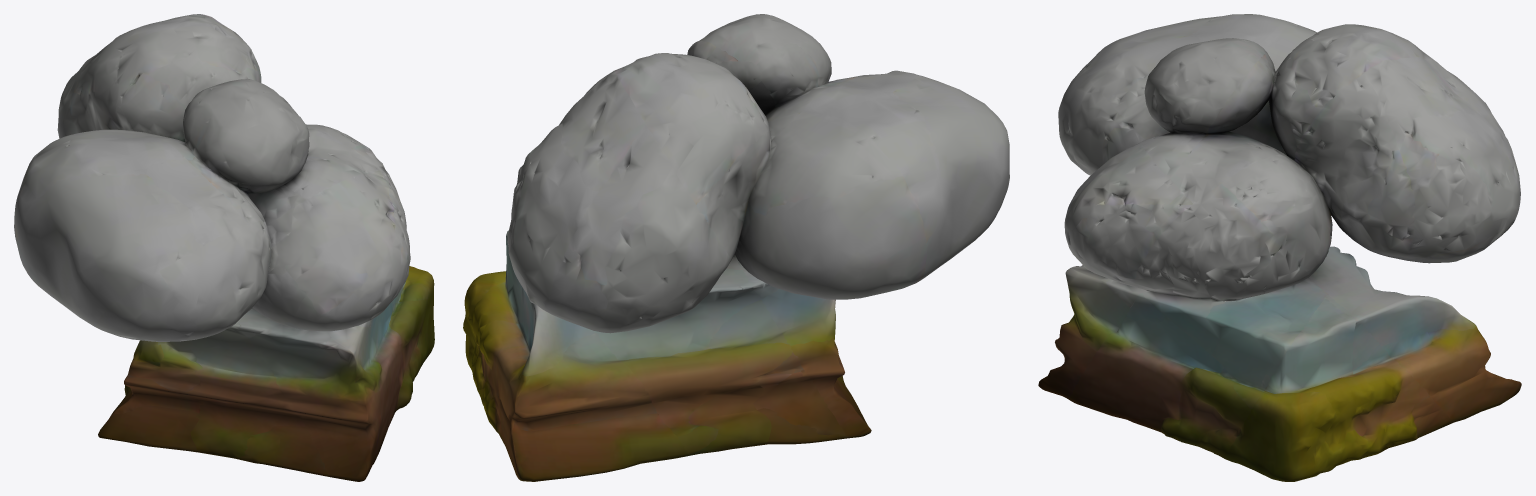
File: rocks.glb
3 views of the same model, side by side, from view 1: azimuth 30°, elevation 25°; view 2: azimuth 150°, elevation 25°; view 3: azimuth 270°, elevation 25° (orthographic). The views are drawn at different scales.
Parts seen in each view (by area): view 1: tripo_node_609f3e08-69d3-40a1-8f00-894d418d2ce7; view 2: tripo_node_609f3e08-69d3-40a1-8f00-894d418d2ce7; view 3: tripo_node_609f3e08-69d3-40a1-8f00-894d418d2ce7.
Part boxes in pixels (bbox=[...]): tripo_node_609f3e08-69d3-40a1-8f00-894d418d2ce7: bbox=[14, 14, 434, 481]; tripo_node_609f3e08-69d3-40a1-8f00-894d418d2ce7: bbox=[463, 14, 1009, 481]; tripo_node_609f3e08-69d3-40a1-8f00-894d418d2ce7: bbox=[1038, 14, 1521, 481].
Bounding box in the file's own units: 0.9973 × 0.791 × 0.9998.
Materials: 1 (1 with a texture image).
